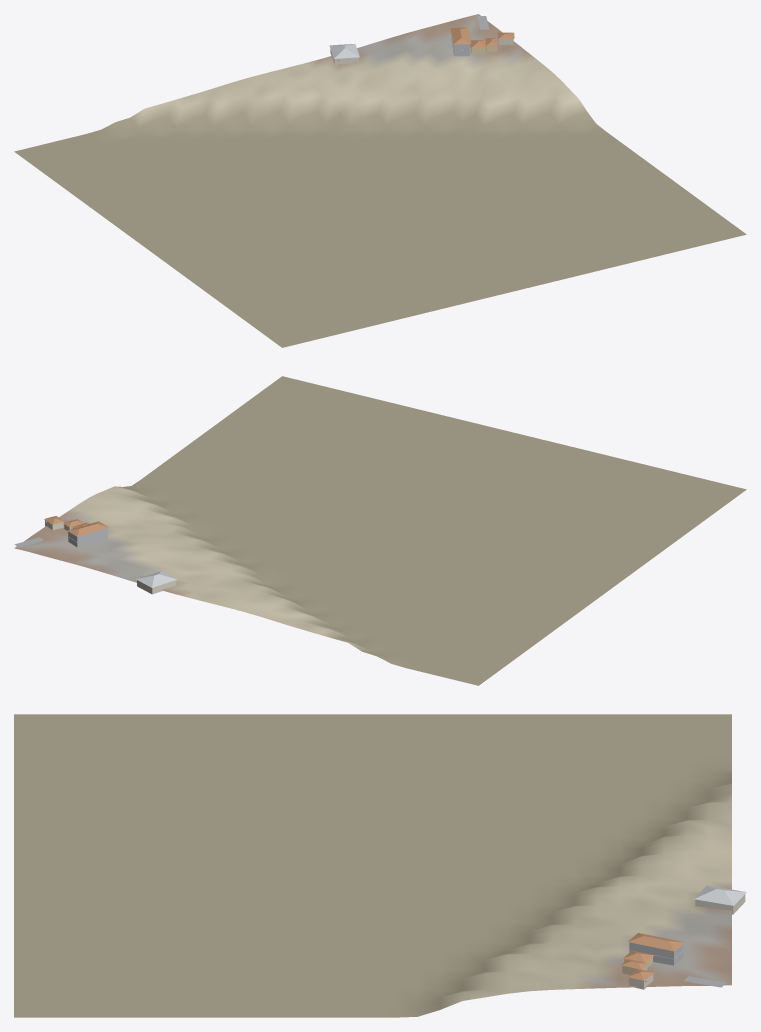
3 views of the same model, one above another, from view 1: azimuth 30°, elevation 25°; view 2: azimuth 150°, elevation 25°; view 3: azimuth 270°, elevation 25° (orthographic). The views are drawn at different scales.
Visible parts, largest first — view 1: Terrain-col, Buildings-col; view 2: Terrain-col, Buildings-col; view 3: Terrain-col, Buildings-col.
Boxes of the visible parts, box(x1,y1,x2,y2) form: Terrain-col: box(14, 14, 746, 347); Buildings-col: box(329, 27, 514, 64); Terrain-col: box(14, 376, 746, 685); Buildings-col: box(44, 516, 176, 594); Terrain-col: box(14, 714, 731, 1017); Buildings-col: box(621, 885, 746, 989).
Bounding box in the file's own units: 258 × 19.34 × 261.
